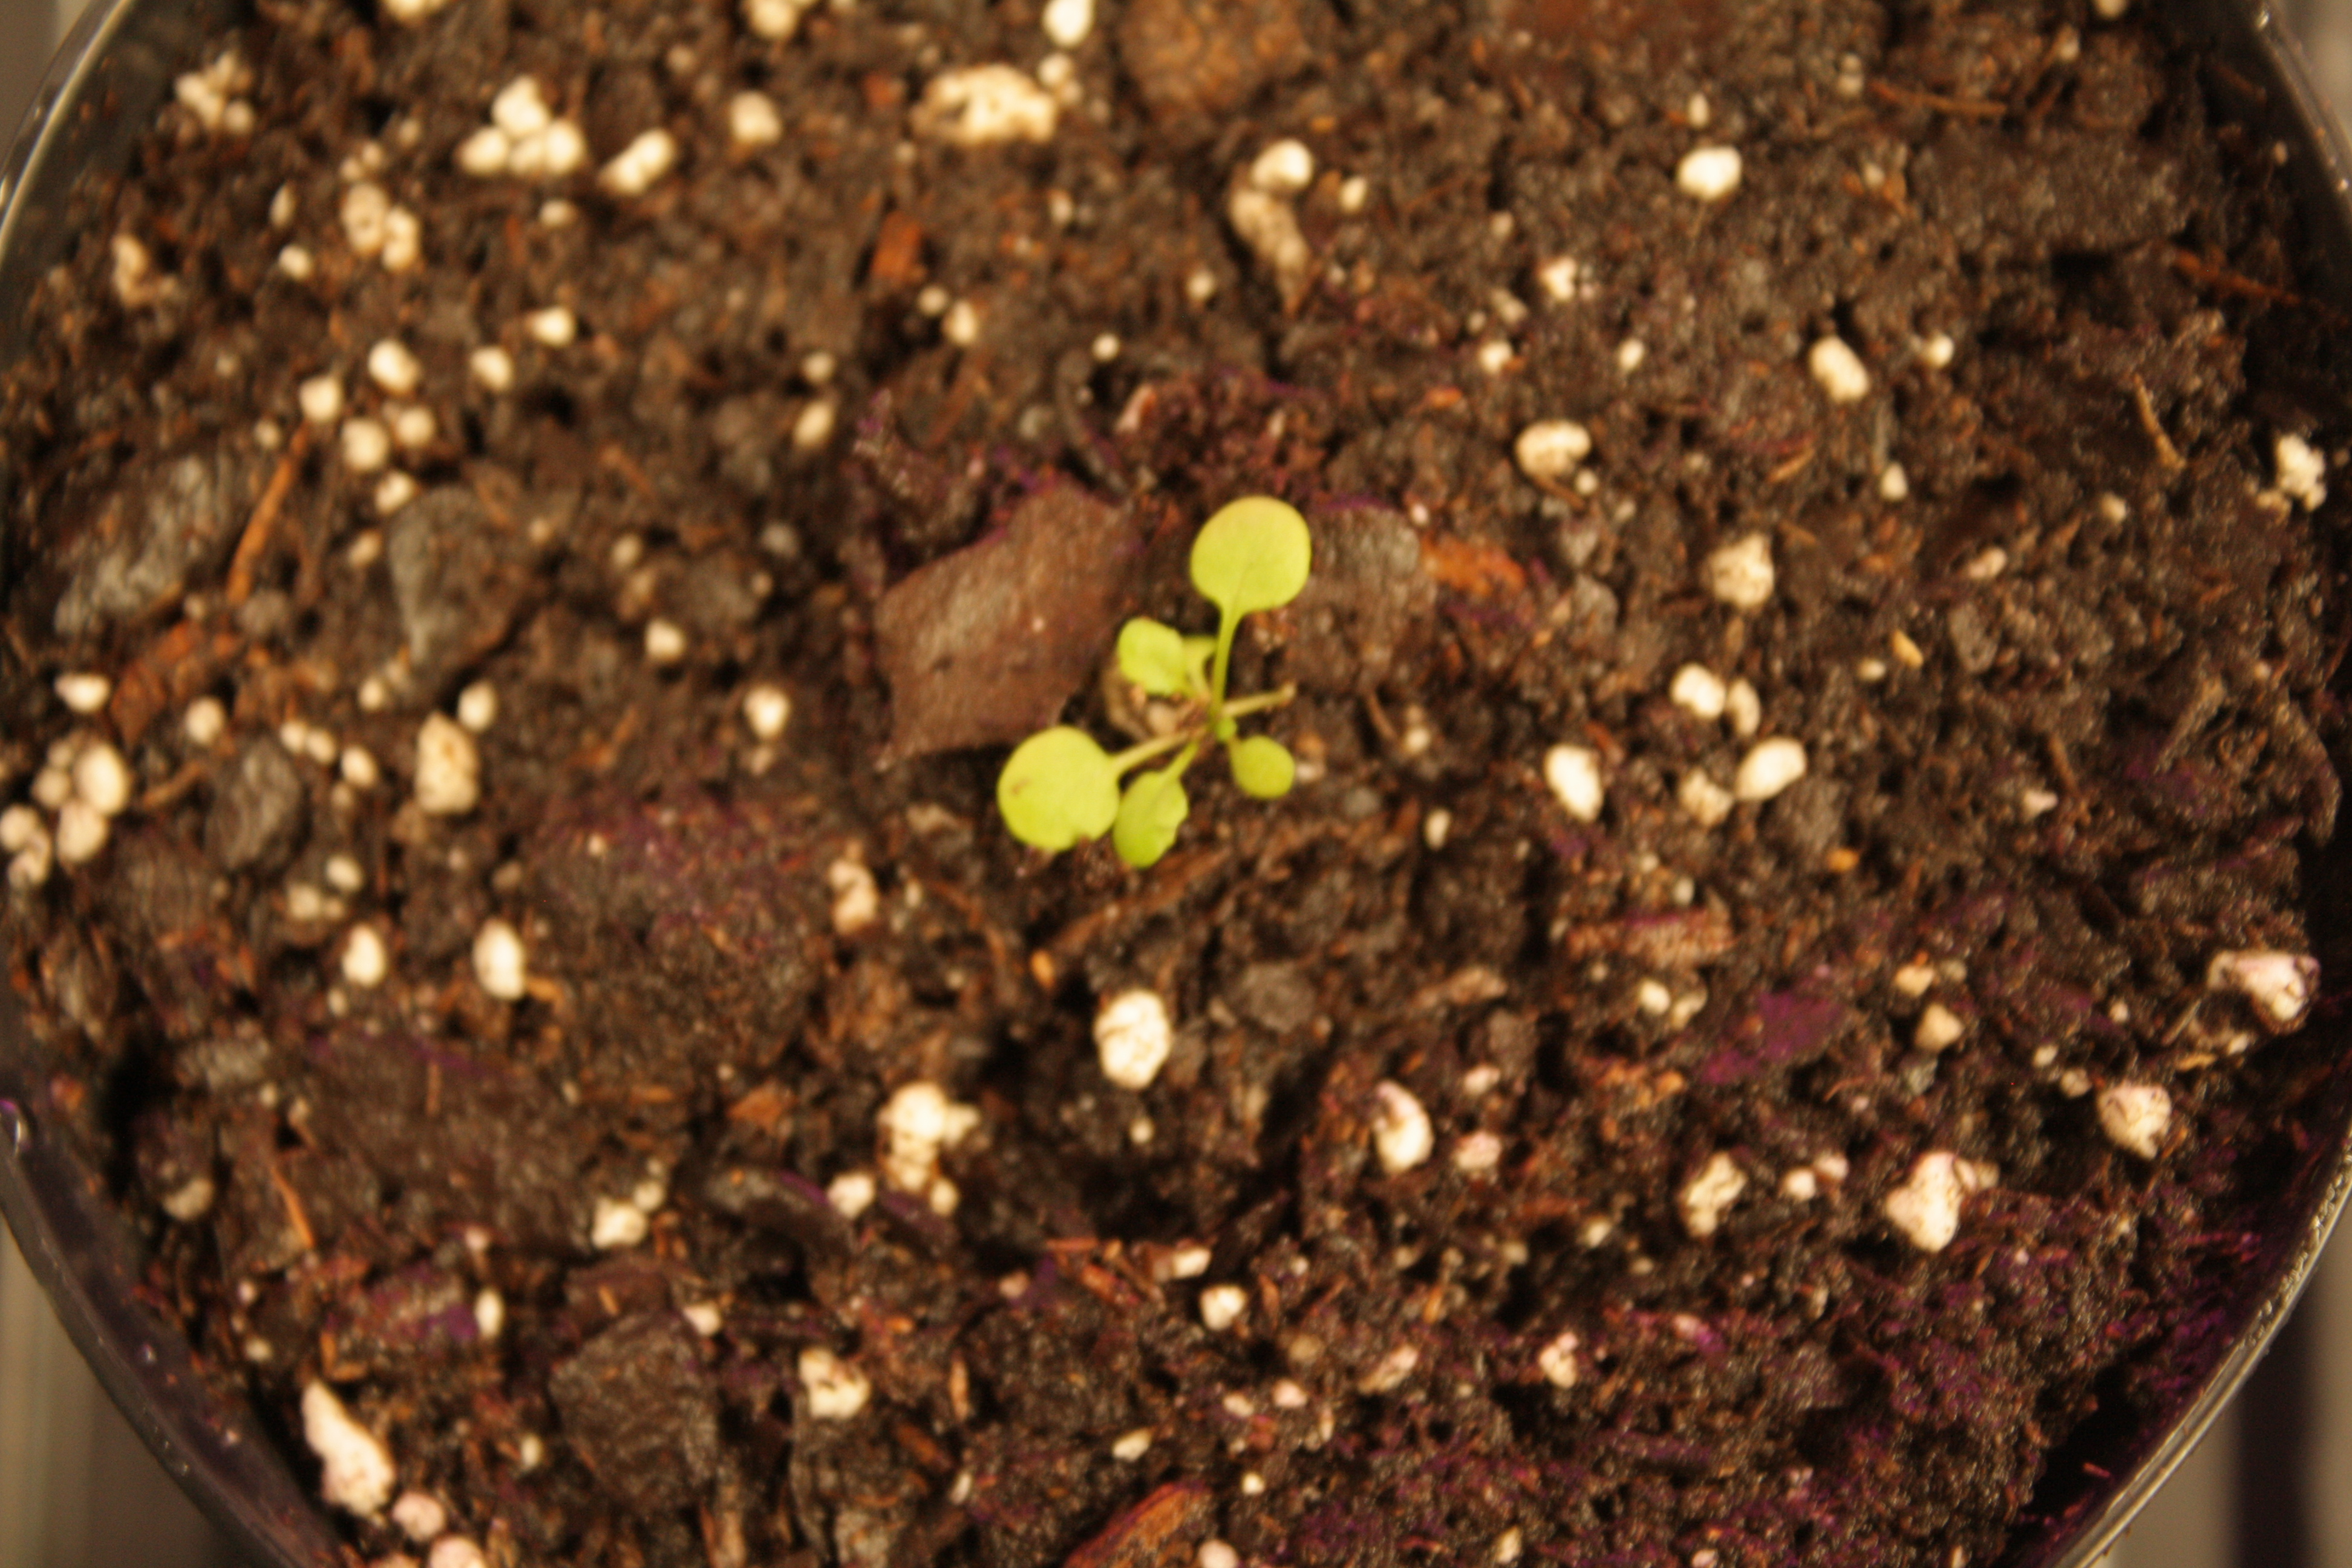leaf: (1178, 478, 1337, 619), (990, 717, 1127, 863), (1106, 761, 1195, 875), (1113, 602, 1192, 710), (1220, 732, 1312, 814), (1172, 626, 1228, 681)
